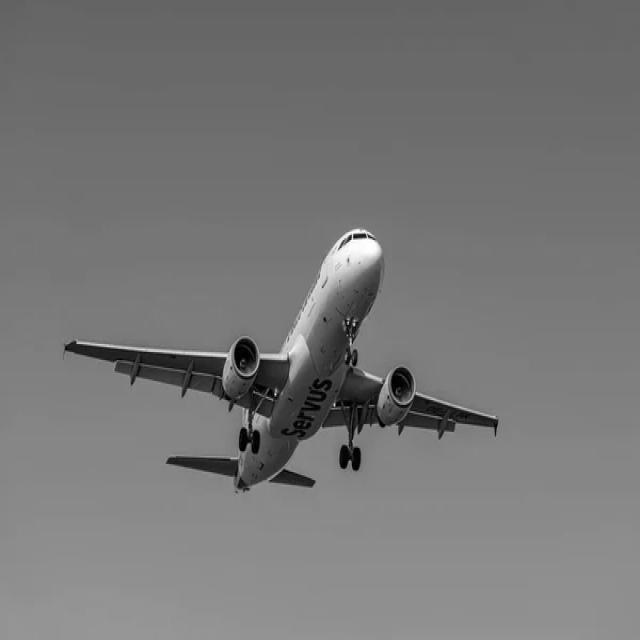Aircraft: (58, 218, 508, 508)
